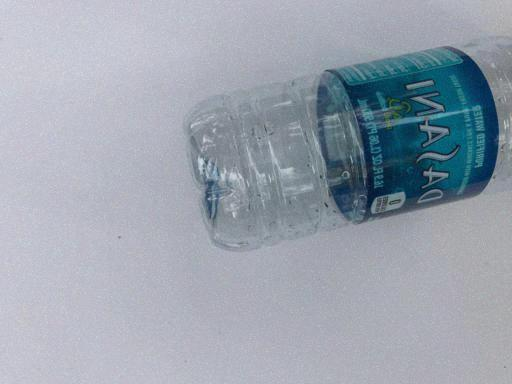plastic: (0, 40, 511, 383), (181, 38, 512, 384), (183, 37, 512, 253)
